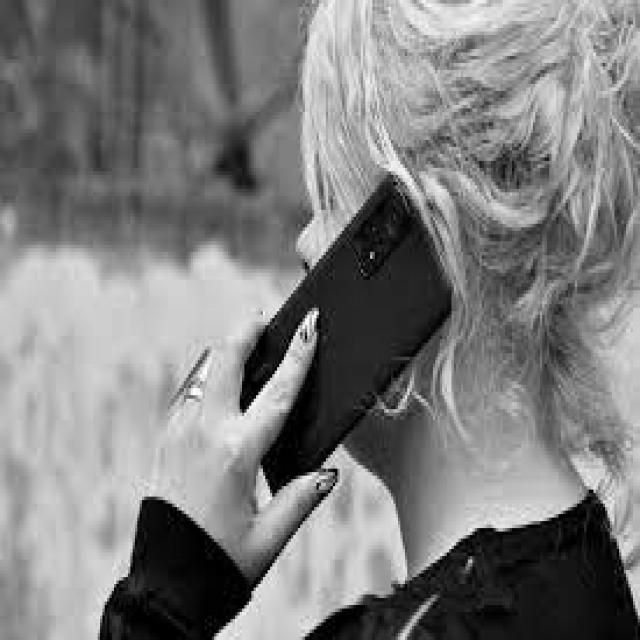No gun_phone: (240, 176, 456, 502)
